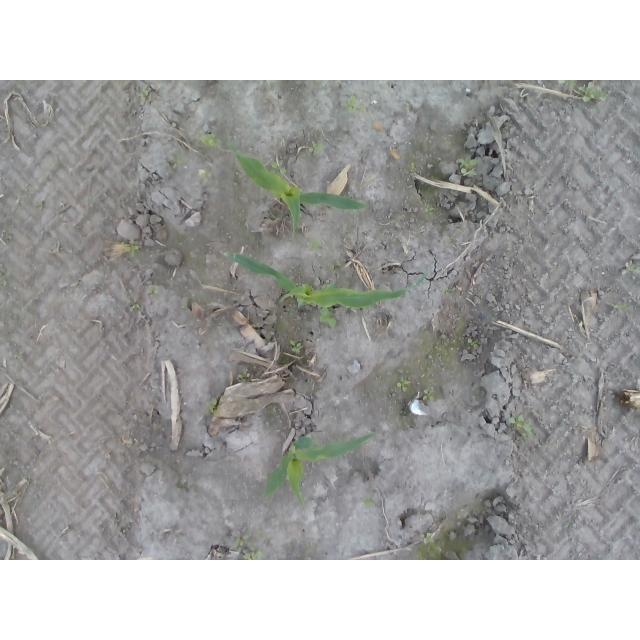Maize: (229, 137, 371, 241), (221, 249, 432, 310), (260, 429, 378, 516)
Weeds: (577, 84, 607, 104), (509, 415, 533, 438), (272, 158, 290, 177), (320, 308, 337, 328), (342, 96, 363, 112), (460, 157, 478, 175), (199, 135, 220, 149), (123, 239, 139, 257), (205, 397, 219, 417), (237, 534, 252, 550), (240, 549, 260, 560), (625, 262, 640, 276), (395, 379, 410, 393), (364, 492, 376, 509), (312, 141, 325, 155), (612, 302, 629, 312), (200, 167, 212, 181), (290, 339, 302, 351), (139, 89, 149, 103), (468, 339, 480, 350), (237, 372, 251, 381), (331, 262, 345, 271), (173, 157, 183, 167), (424, 389, 433, 399), (149, 286, 159, 295), (308, 241, 320, 248), (131, 305, 140, 311)
